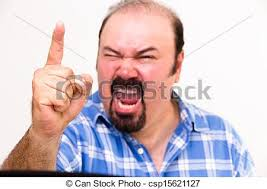white_male: (90, 7, 164, 121)
